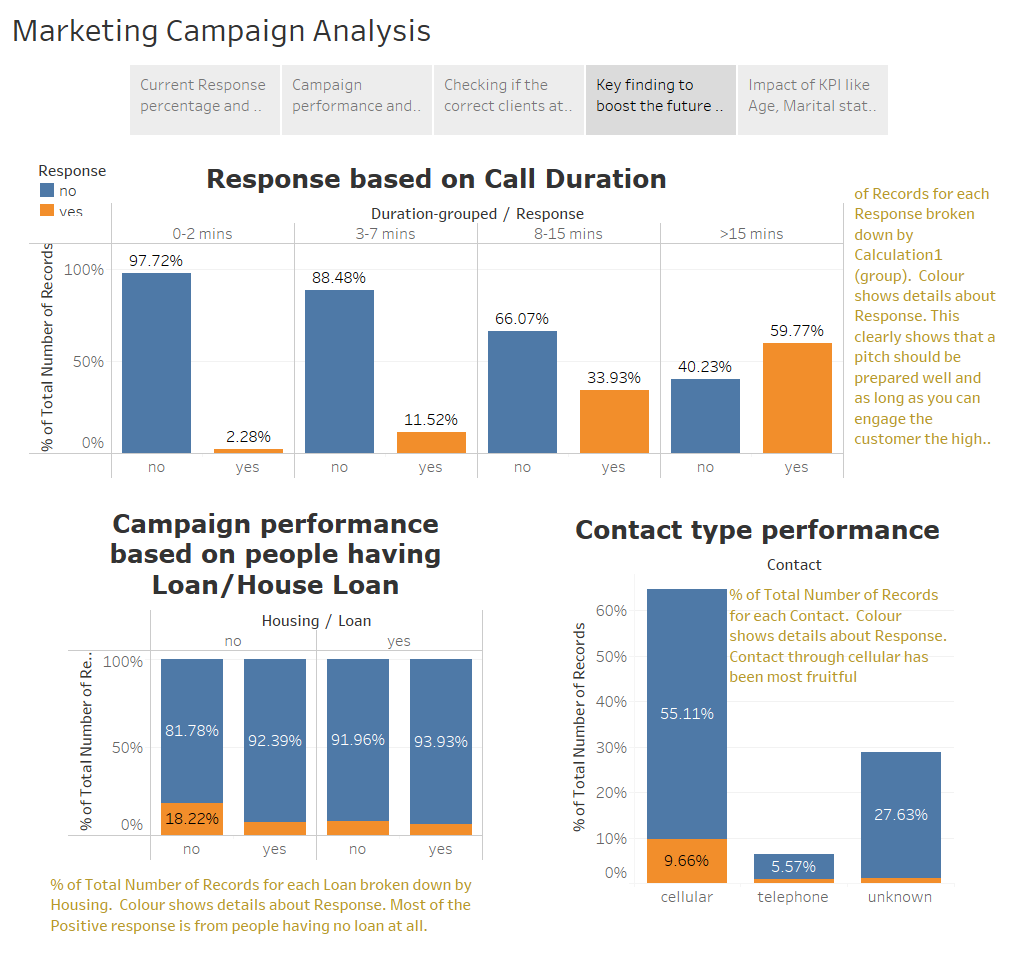

Layout of this report page (visuals, bound fields, positions):
{"tool":"tableau","page":{"name":"Dashboard 4","canvas":[1000,800],"ordinal":3},"visuals":[{"type":"worksheet","title":"Response based on Call Duration","mark":"Automatic","cols":["response"],"box":[21,6,815,322]},{"type":"legend","title":"Response based on Call Duration","param":"[federated.16b4l9v19oirxa11chxgu1q5xi05].[none:response:nk]","box":[29,7,140,58]},{"type":"text","box":[843,24,150,289]},{"type":"worksheet","title":"Campaign performance based on people having Loan/House Loan","mark":"Automatic","cols":["housing","loan"],"box":[60,351,415,359]},{"type":"worksheet","title":"Contact type performance","mark":"Automatic","rows":["Number of Records"],"cols":["contact"],"box":[553,357,393,400]},{"type":"text","box":[718,419,224,133]},{"type":"text","box":[39,716,434,76]}]}

Visuals, with their boxes on the page's 1000x800 design canvas (x1, y1, x2, y2). These are canvas units, not pixel positions in the 1016x964 screenshot, which may show the page scaled, cropped or inside an application window:
"Response based on Call Duration" worksheet: pyautogui.locateOnScreen(21, 6, 836, 328)
"Response based on Call Duration" legend: pyautogui.locateOnScreen(29, 7, 169, 65)
text: pyautogui.locateOnScreen(843, 24, 993, 313)
"Campaign performance based on people having Loan/House Loan" worksheet: pyautogui.locateOnScreen(60, 351, 475, 710)
"Contact type performance" worksheet: pyautogui.locateOnScreen(553, 357, 946, 757)
text: pyautogui.locateOnScreen(718, 419, 942, 552)
text: pyautogui.locateOnScreen(39, 716, 473, 792)
